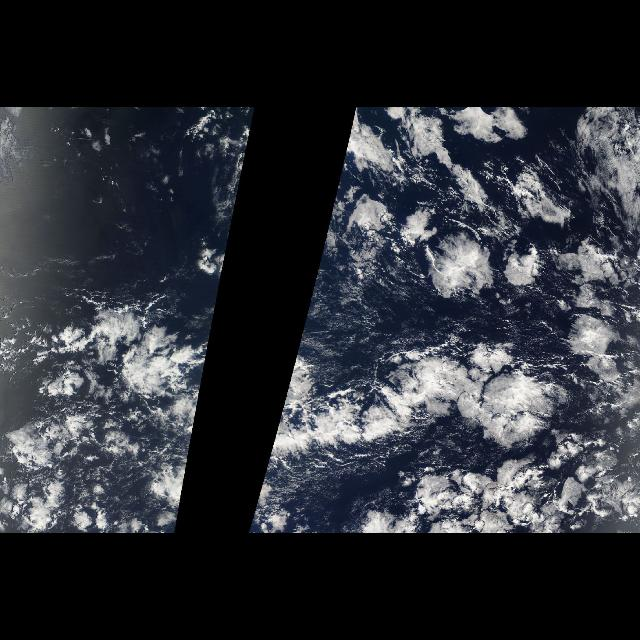Fish: (266, 398, 412, 464)
Flower: (328, 121, 640, 533)
Sugar: (326, 274, 384, 366)
